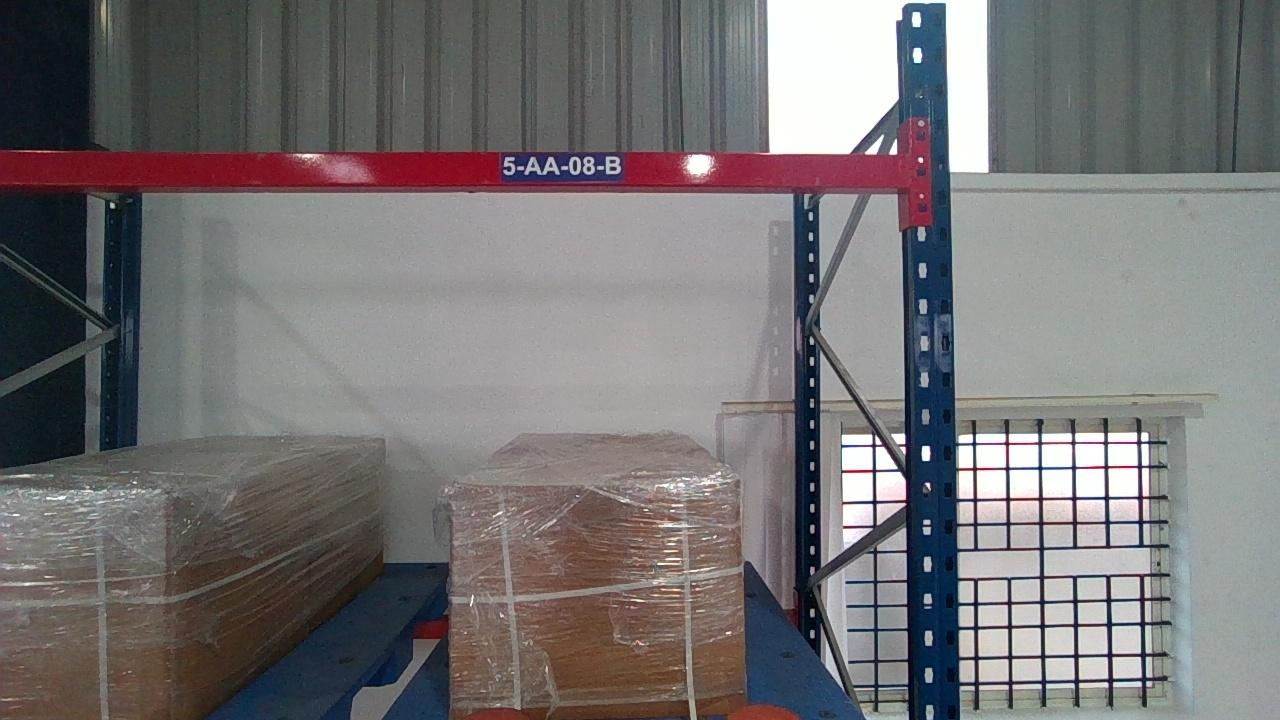h_rack: (0, 147, 911, 189)
